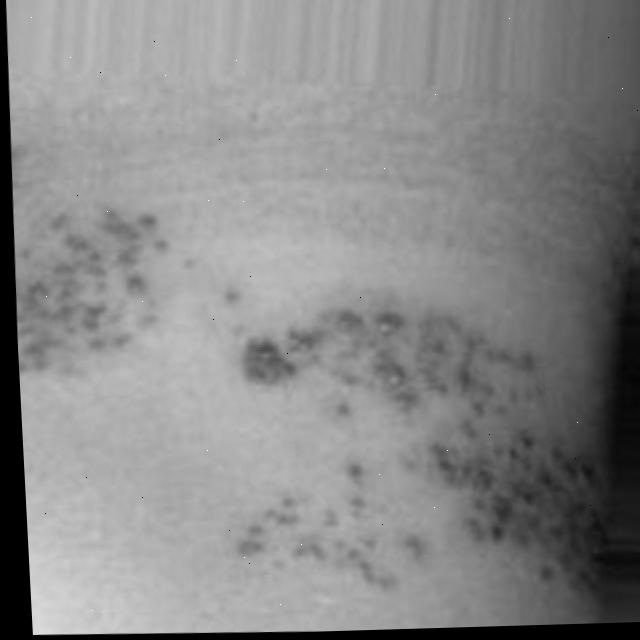Shingles: (205, 290, 614, 619), (7, 138, 190, 402)
